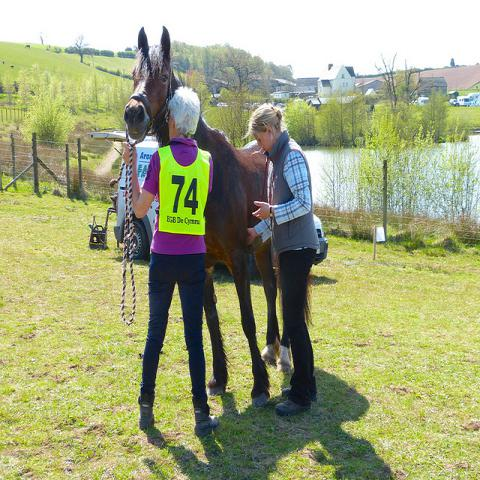car: (114, 164, 158, 260), (311, 212, 326, 262), (457, 95, 470, 107), (449, 98, 460, 107), (250, 102, 261, 110), (411, 100, 419, 105)
